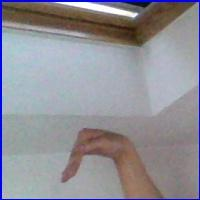del: (56, 125, 137, 189)
